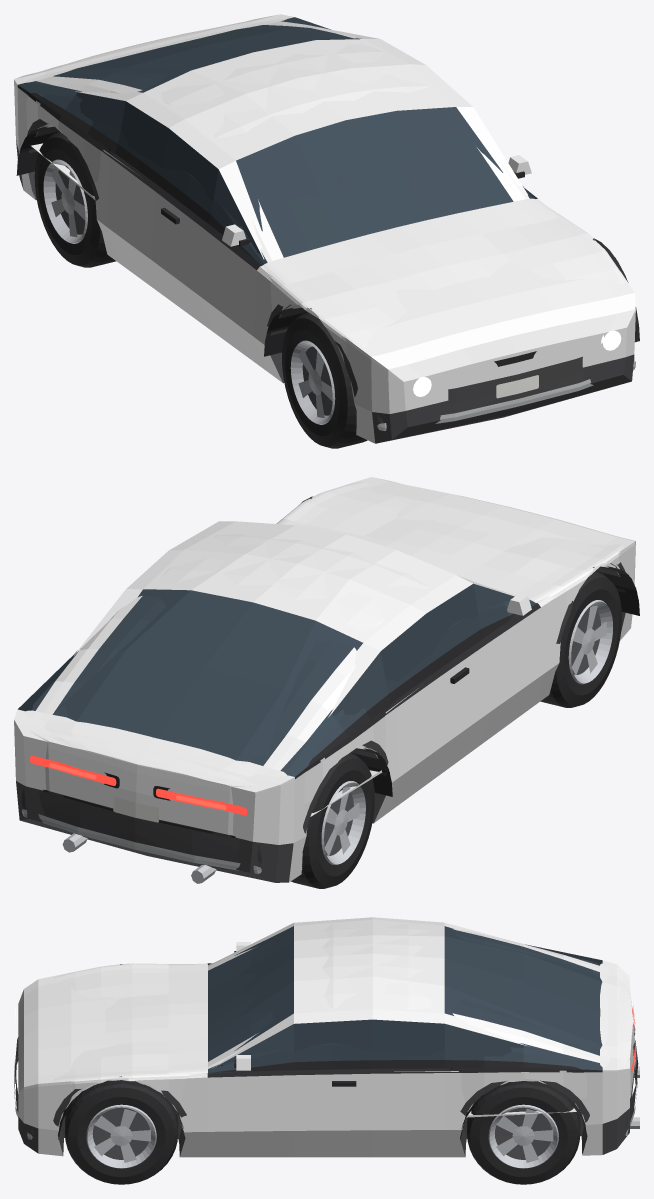
The model's file is lambari.glb.
3 views of the same model, one above another, from view 1: azimuth 30°, elevation 25°; view 2: azimuth 150°, elevation 25°; view 3: azimuth 270°, elevation 25° (orthographic). The views are drawn at different scales.
Visible parts, largest first — view 1: body.001, body, glass.001, glass, wheel_fr, details, wheel_rr, wheel_wells.001; view 2: body.001, body, glass.001, details, glass, wheel_rr, wheel_fr, wheel_wells.001, lamp_tail; view 3: body.001, body, glass.001, glass, wheel_fl, wheel_rl, details, wheel_wells, wheel_wells.001.
Part boxes in pixels (x1,y1,x2,y2): body.001: (14,14,635,443); body: (25,18,623,357); glass.001: (18,17,537,266); glass: (32,20,534,265); wheel_fr: (282,312,367,448); details: (27,100,635,430); wheel_rr: (34,131,115,267); wheel_wells.001: (16,126,637,356); body.001: (14,477,635,882); body: (25,482,623,870); glass.001: (18,583,537,776); details: (22,562,625,883); glass: (32,595,534,771); wheel_rr: (291,753,374,888); wheel_fr: (540,571,621,707); wheel_wells.001: (350,566,639,796); lamp_tail: (49,762,226,809); body.001: (18,917,629,1157); body: (54,924,635,1138); glass.001: (207,926,602,1073); glass: (208,929,599,1072); wheel_fl: (65,1083,178,1184); wheel_rl: (467,1083,580,1184); details: (14,942,639,1139); wheel_wells: (58,1080,586,1139); wheel_wells.001: (58,1083,586,1139).
Size of the model in its own units: 1.97 by 1.38 by 4.36.
